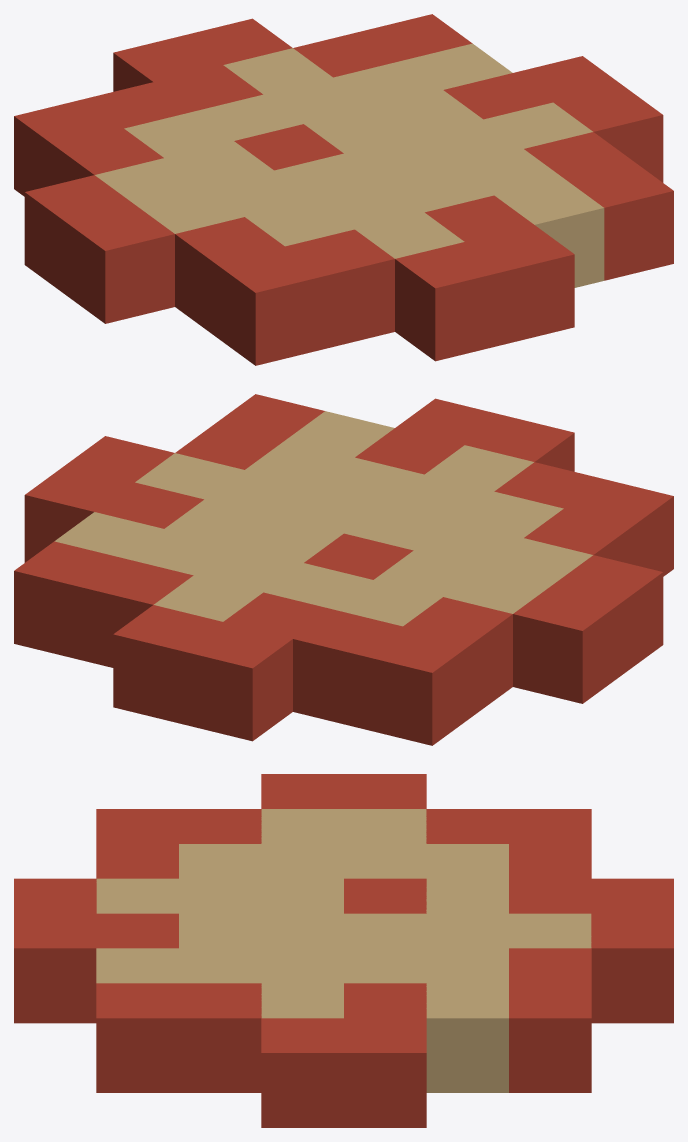
File: beans.glb
3 views of the same model, one above another, from view 1: azimuth 30°, elevation 25°; view 2: azimuth 150°, elevation 25°; view 3: azimuth 270°, elevation 25° (orthographic). The views are drawn at different scales.
Parts seen in each view (by area): view 1: body:foodPortion; view 2: body:foodPortion; view 3: body:foodPortion.
Boxes of the visible parts, x1,y1,x2,y2 form: body:foodPortion: (14, 14, 673, 365); body:foodPortion: (14, 394, 673, 745); body:foodPortion: (14, 774, 673, 1127).
Size of the model in its own units: 0.08 by 0.01 by 0.08.
